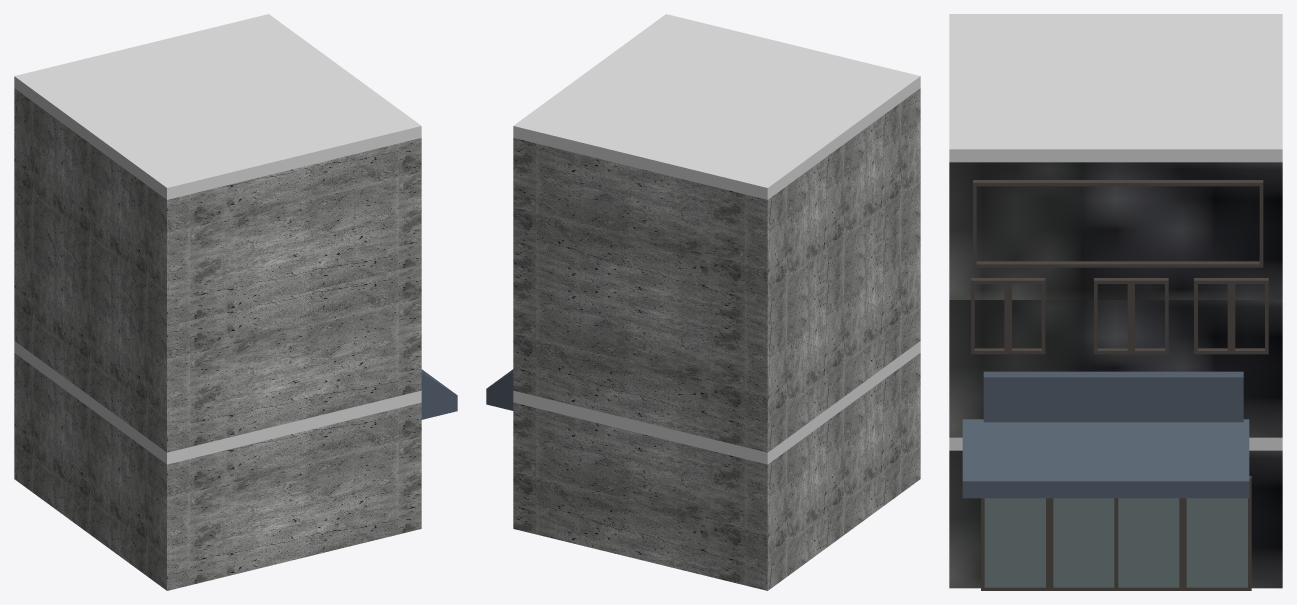
File: dummyE.fbx
The picture shows the model from 3 angles, left to right: view 1: azimuth 30°, elevation 25°; view 2: azimuth 150°, elevation 25°; view 3: azimuth 270°, elevation 25°; orthographic projection. The views are drawn at different scales.
Parts seen in each view (by area): view 1: Cube.019; view 2: Cube.019; view 3: Cube.019.
Part boxes in pixels (x1,y1,x2,y2): Cube.019: (14, 14, 457, 590); Cube.019: (486, 14, 920, 590); Cube.019: (949, 14, 1282, 590).
Size of the model in its own units: 491 by 638 by 439.
